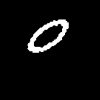chain: (28, 20, 67, 51)
